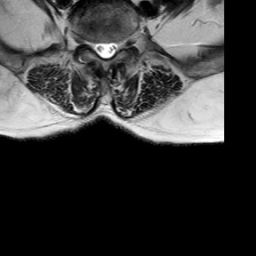CCS_stenosis: (102, 32, 110, 65)
LFS_normal: (118, 31, 127, 57)
LLS_normal: (110, 32, 118, 62)
RFS_stenosis: (84, 29, 93, 55)
RLS_normal: (93, 32, 102, 61)
